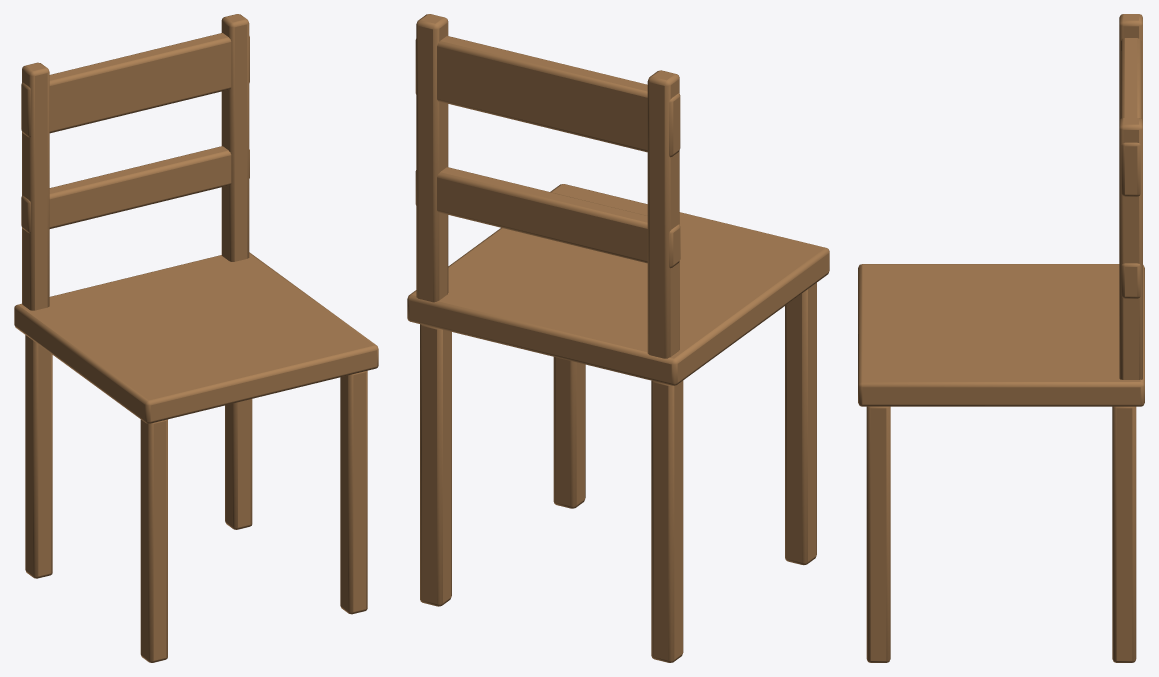
Rendered from GheBanHoc_Go.glb.
3 renders of one model, left to right at view 1: azimuth 30°, elevation 25°; view 2: azimuth 150°, elevation 25°; view 3: azimuth 270°, elevation 25°, orthographic. The views are drawn at different scales.
Parts seen in each view (by area): view 1: GheBanHoc_Go; view 2: GheBanHoc_Go; view 3: GheBanHoc_Go.
Boxes of the visible parts, x1,y1,x2,y2 form: GheBanHoc_Go: (14, 14, 378, 662); GheBanHoc_Go: (407, 14, 829, 662); GheBanHoc_Go: (858, 14, 1144, 662).
Bounding box in the file's own units: 0.42 × 0.87 × 0.42.
